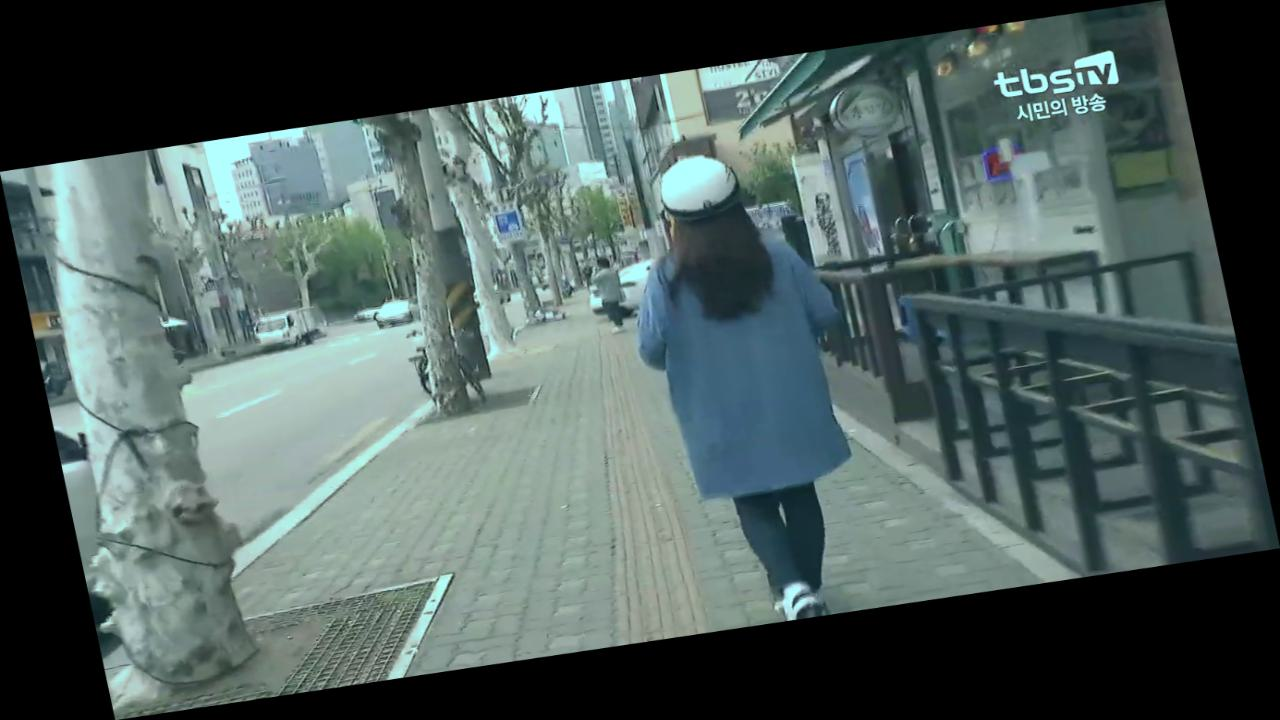helmet: (599, 140, 904, 634)
